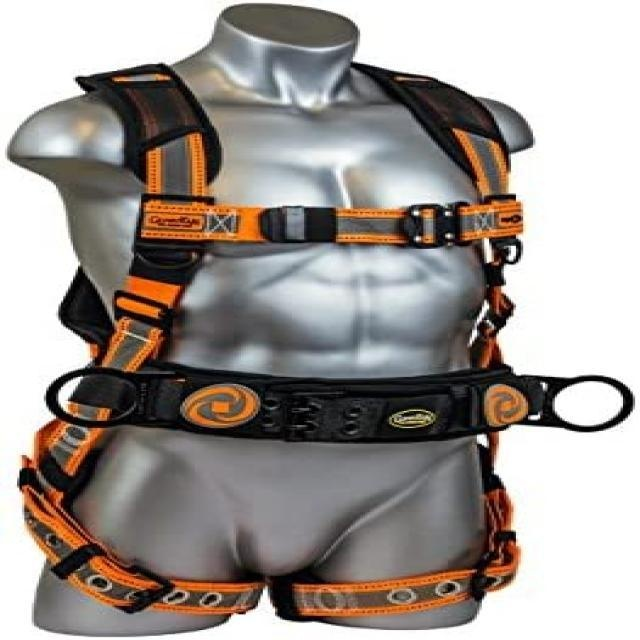Arnes_seguridad: (6, 65, 636, 619)
